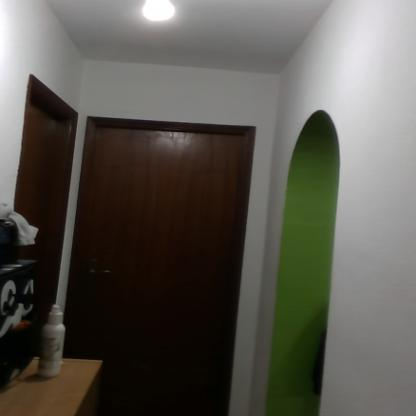door: (75, 126, 242, 416), (28, 95, 63, 324)
lever: (89, 268, 113, 277)
